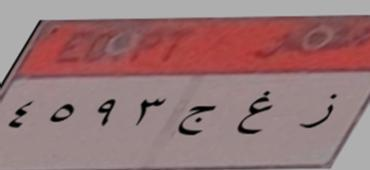3: (132, 92, 167, 132)
4: (4, 94, 34, 136)
5: (45, 98, 78, 132)
9: (91, 92, 118, 132)
ghayn: (231, 84, 274, 139)
jeem: (177, 98, 216, 144)
zay: (295, 84, 342, 136)
